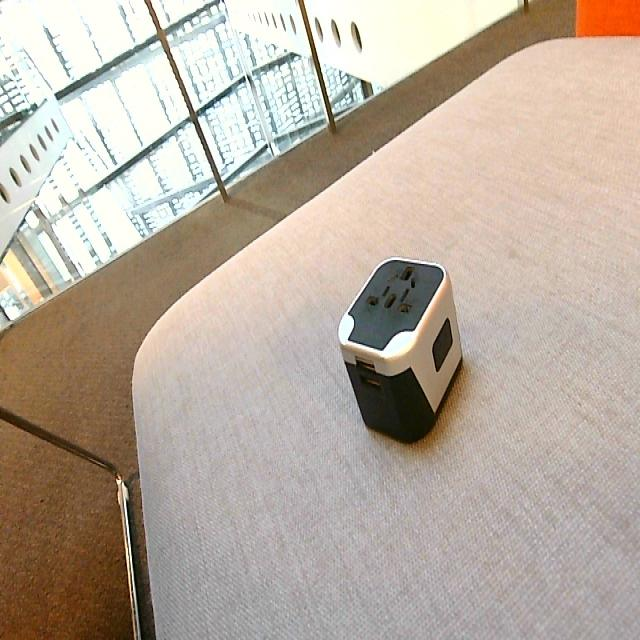adapter: (336, 255, 463, 444)
